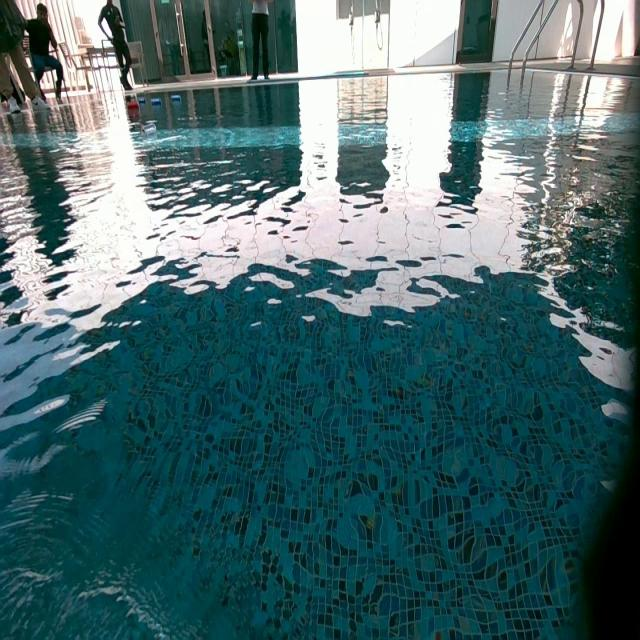Cans: (141, 124, 156, 136), (128, 102, 140, 111), (172, 95, 182, 105), (151, 99, 161, 107), (138, 98, 146, 106)
